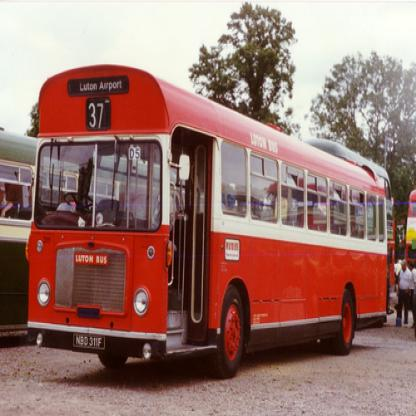bus: (26, 64, 387, 380)
person: (395, 260, 412, 326), (408, 262, 416, 329)
